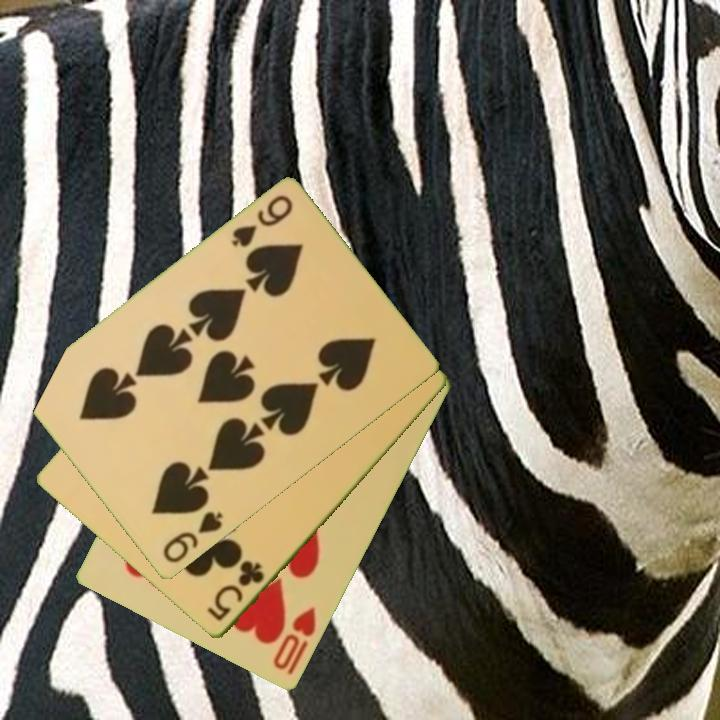10h: (269, 603, 319, 679)
5c: (203, 557, 267, 625)
9s: (227, 192, 296, 251), (159, 508, 226, 567)
